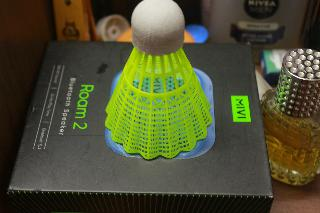shuttlecock: (105, 0, 212, 159)
